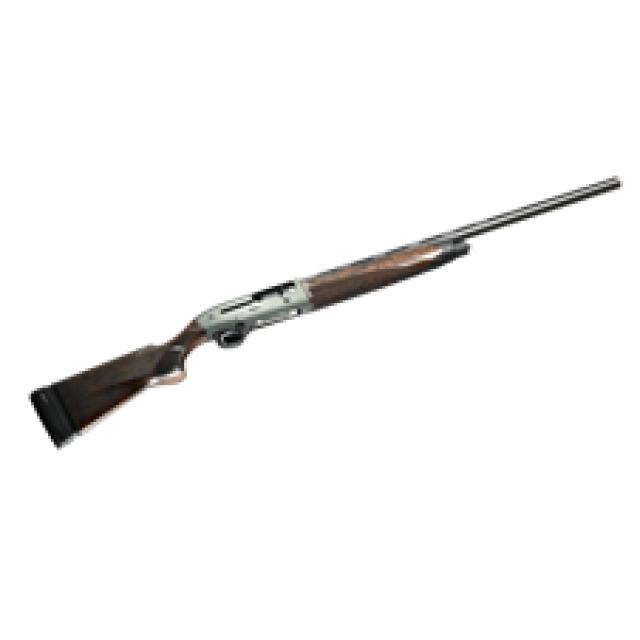rifle: (29, 163, 623, 460)
